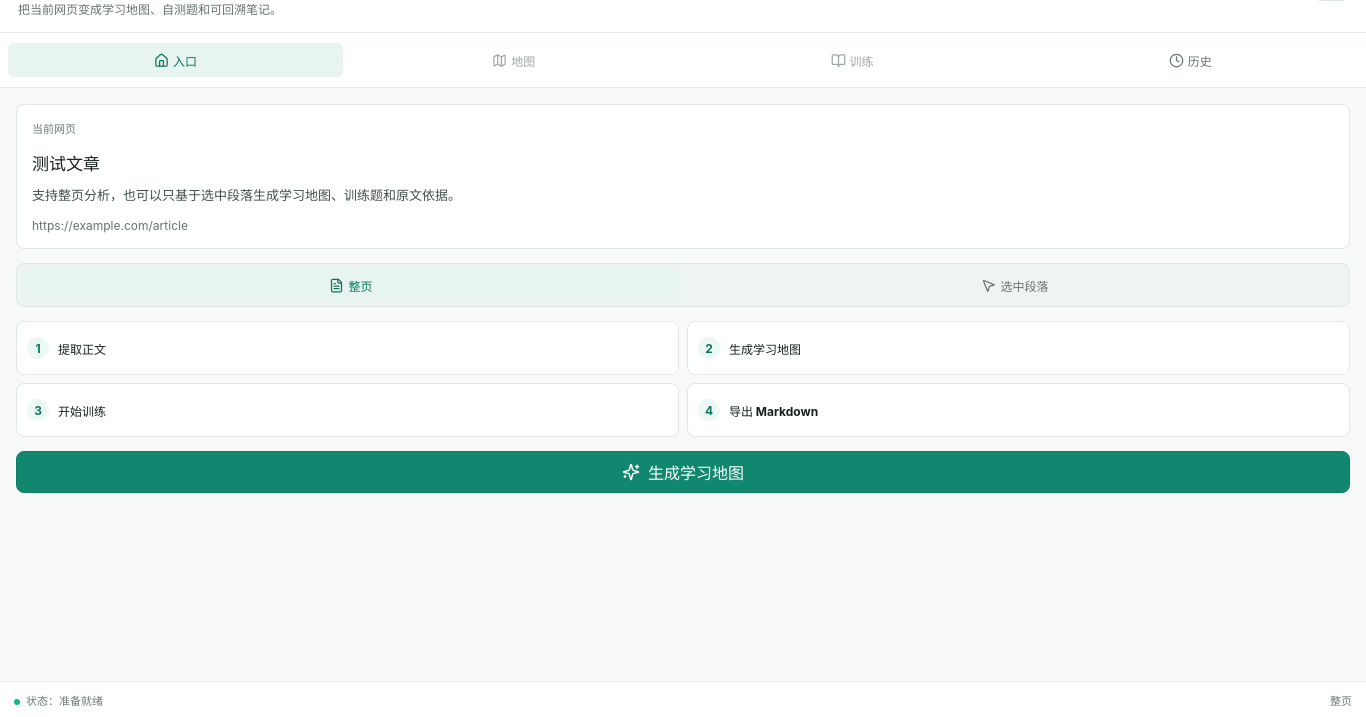
Test: AppView learning flow › keeps the learning package visible when Markdown export fails
Click the button "生成学习地图": x=683, y=472 [16,452,1350,494]
(page scrolled)
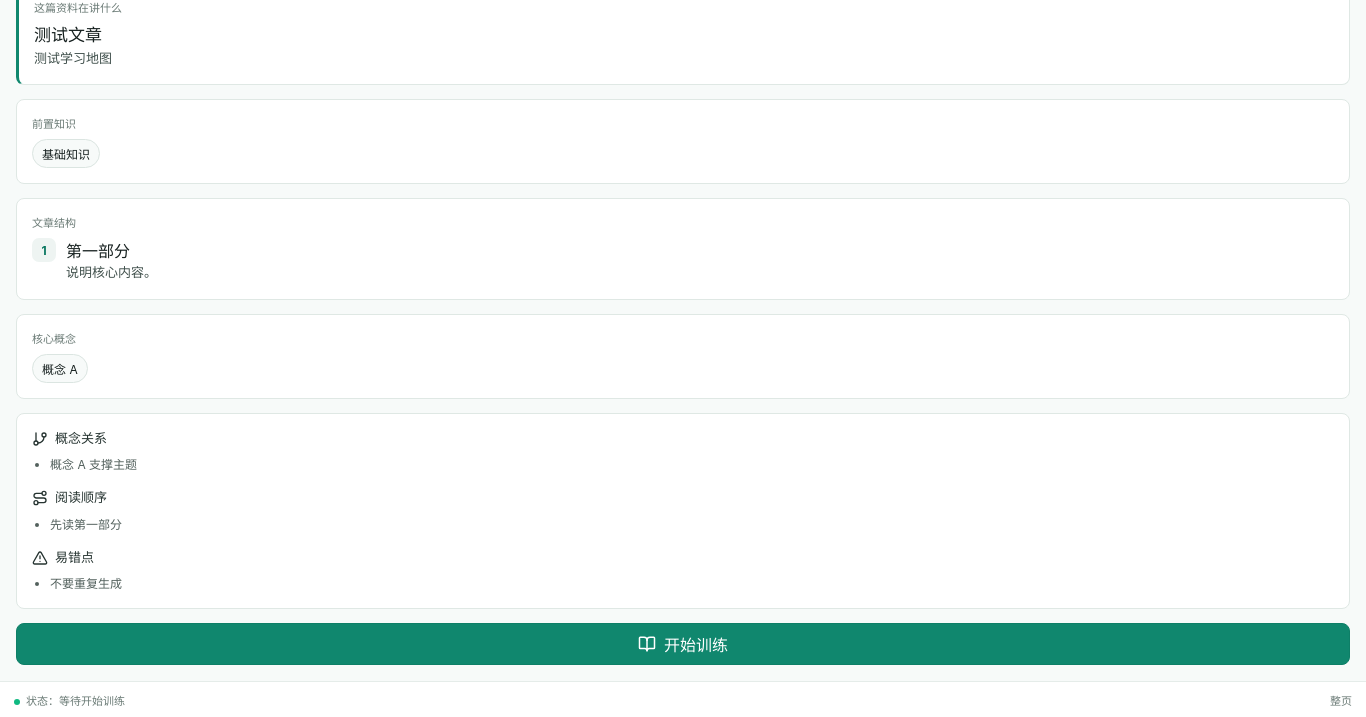
Click the button "开始训练": x=683, y=644 [16,623,1350,665]
(page scrolled)
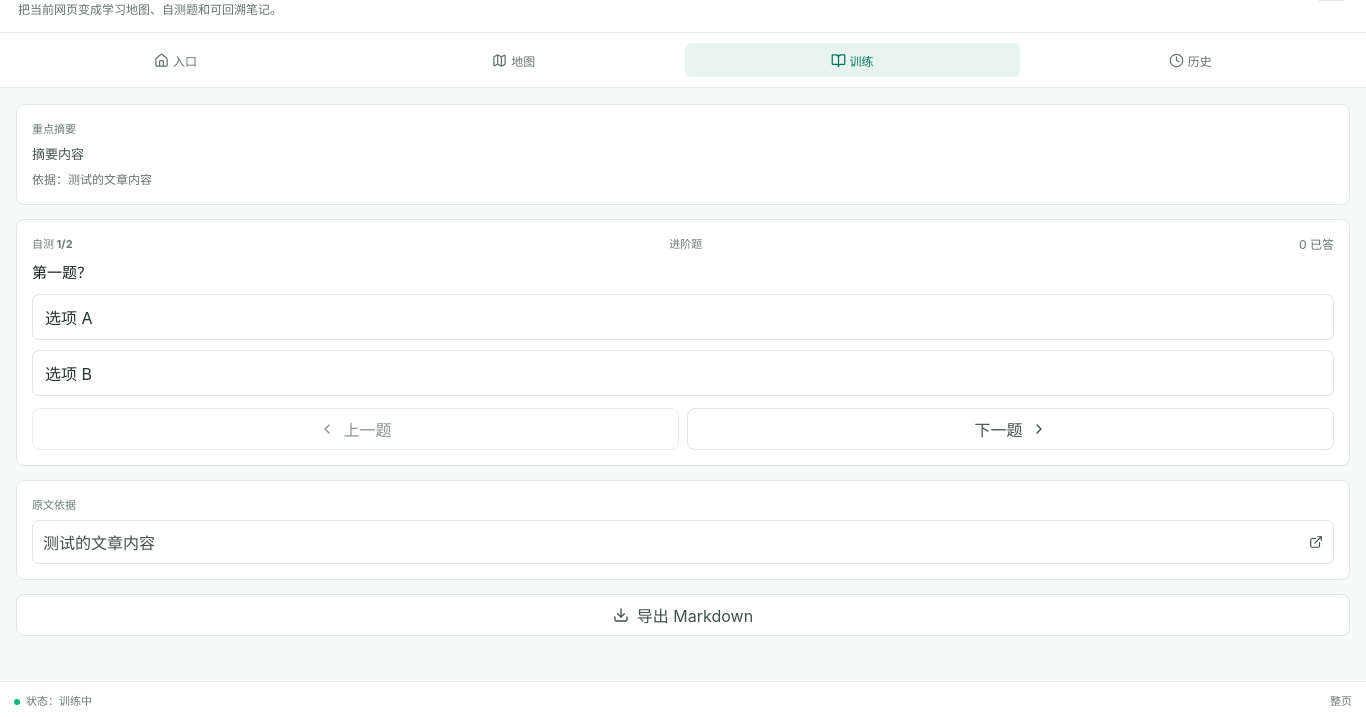
Now the heading "第一题？" is shown, box [32,263,92,282]
Click the button "导出 Markdown": x=683, y=615 [16,594,1350,636]
(page scrolled)
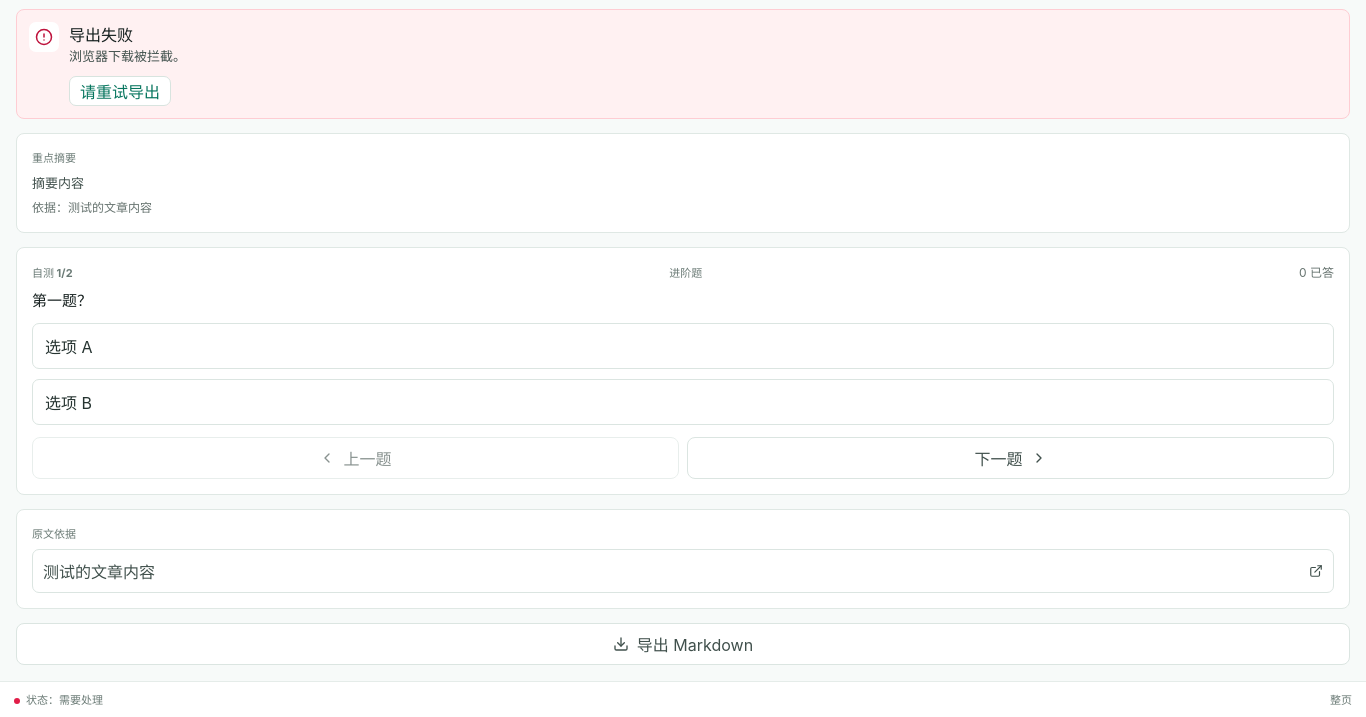
Now the heading "第一题？" is shown, box [32,291,92,310]
Now the button "导出 Markdown" is shown, box [16,623,1350,665]
Now the text "导出失败" is shown, box [69,25,133,45]
